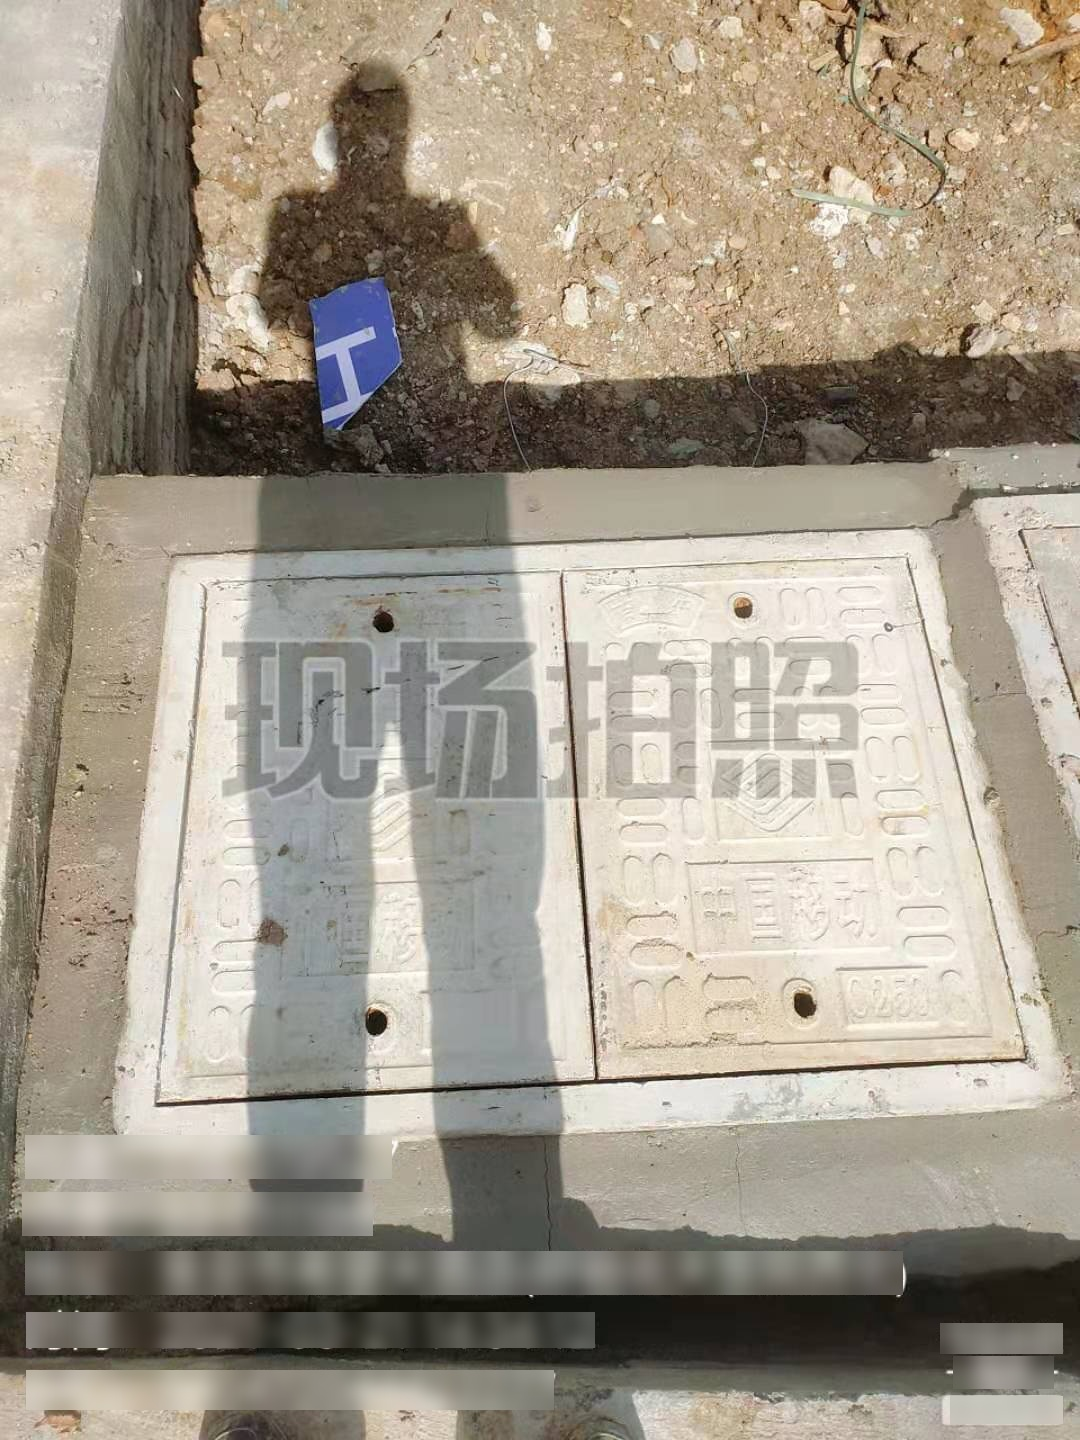good: (115, 519, 1073, 1161)
